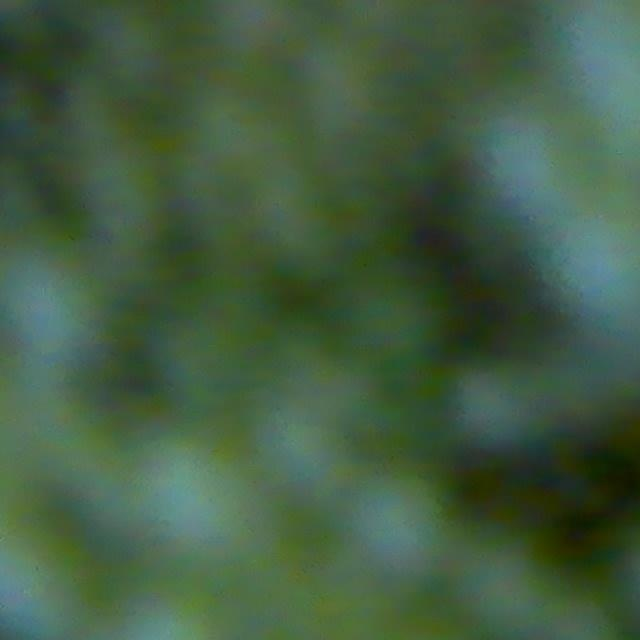SeaGrape: (344, 460, 463, 583), (146, 441, 258, 565), (0, 260, 105, 389), (547, 219, 640, 344), (446, 355, 552, 456), (0, 513, 81, 640), (369, 477, 429, 571)
